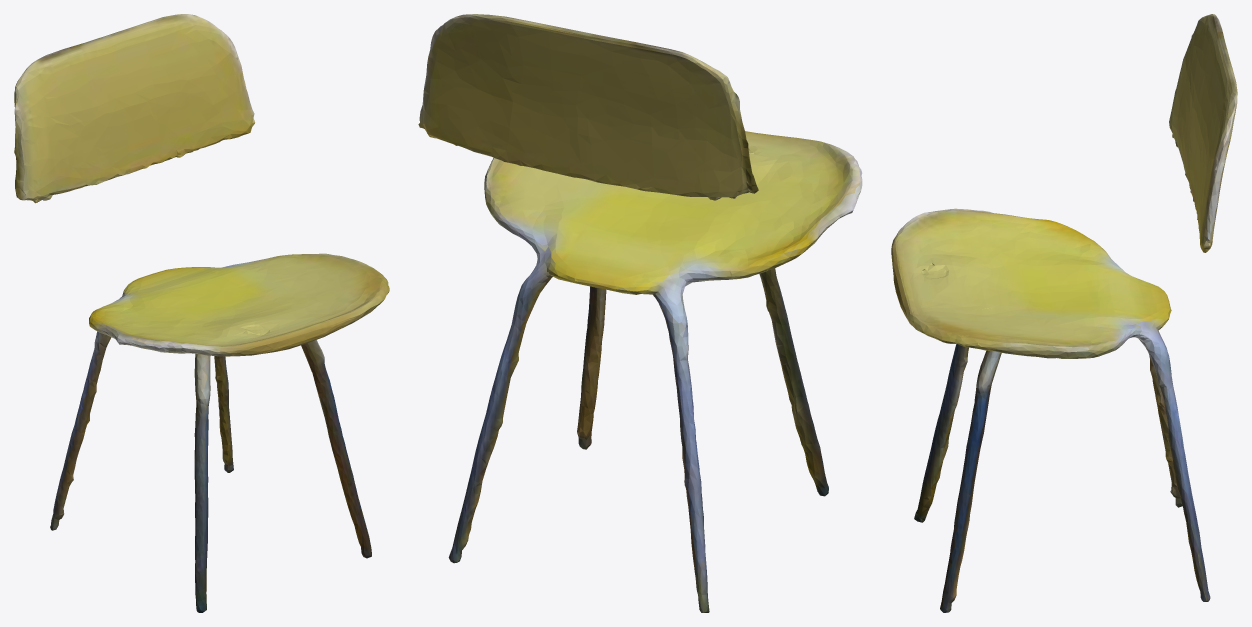
The picture shows the model from 3 angles, left to right: view 1: azimuth 30°, elevation 25°; view 2: azimuth 150°, elevation 25°; view 3: azimuth 270°, elevation 25°; orthographic projection. The views are drawn at different scales.
Visible parts, largest first — view 1: world; view 2: world; view 3: world.
Part boxes in pixels (x1,y1,x2,y2): world: (14,14,389,612); world: (418,14,862,612); world: (891,14,1237,612).
Bounding box in the file's own units: 0.2828 × 0.452 × 0.286.
1 material, 1 textured.
